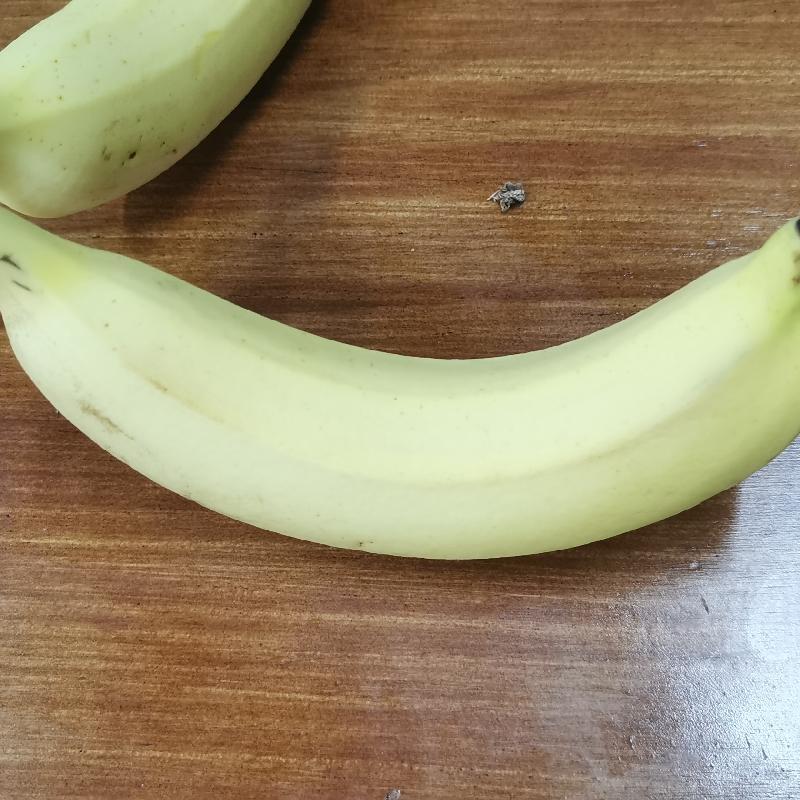bananas: (10, 191, 799, 573)
